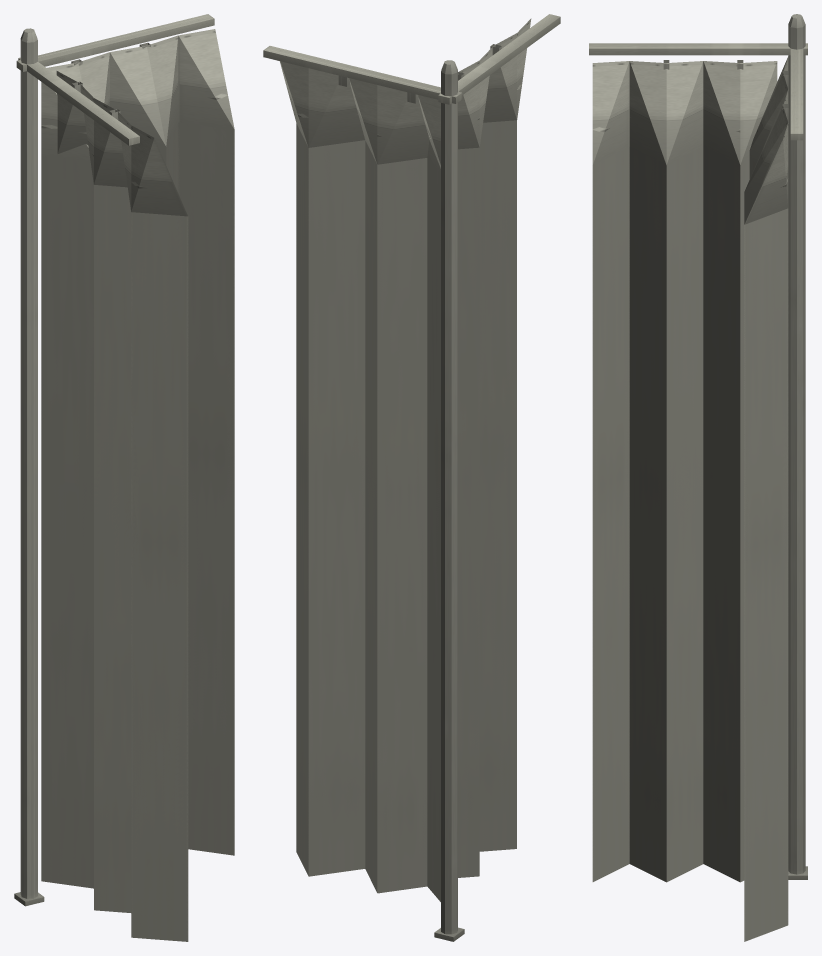
File: pool_curtain_corner.glb
The picture shows the model from 3 angles, left to right: view 1: azimuth 30°, elevation 25°; view 2: azimuth 150°, elevation 25°; view 3: azimuth 270°, elevation 25°; orthographic projection.
Visible parts, largest first — view 1: core_pool_curtain_corner; view 2: core_pool_curtain_corner; view 3: core_pool_curtain_corner.
Part boxes in pixels (x1,y1,x2,y2): core_pool_curtain_corner: [14, 14, 234, 941]; core_pool_curtain_corner: [263, 14, 560, 941]; core_pool_curtain_corner: [589, 14, 807, 941].
Size of the model in its own units: 0.6 by 2.6 by 0.6.
Materials: 1 (1 with a texture image).
